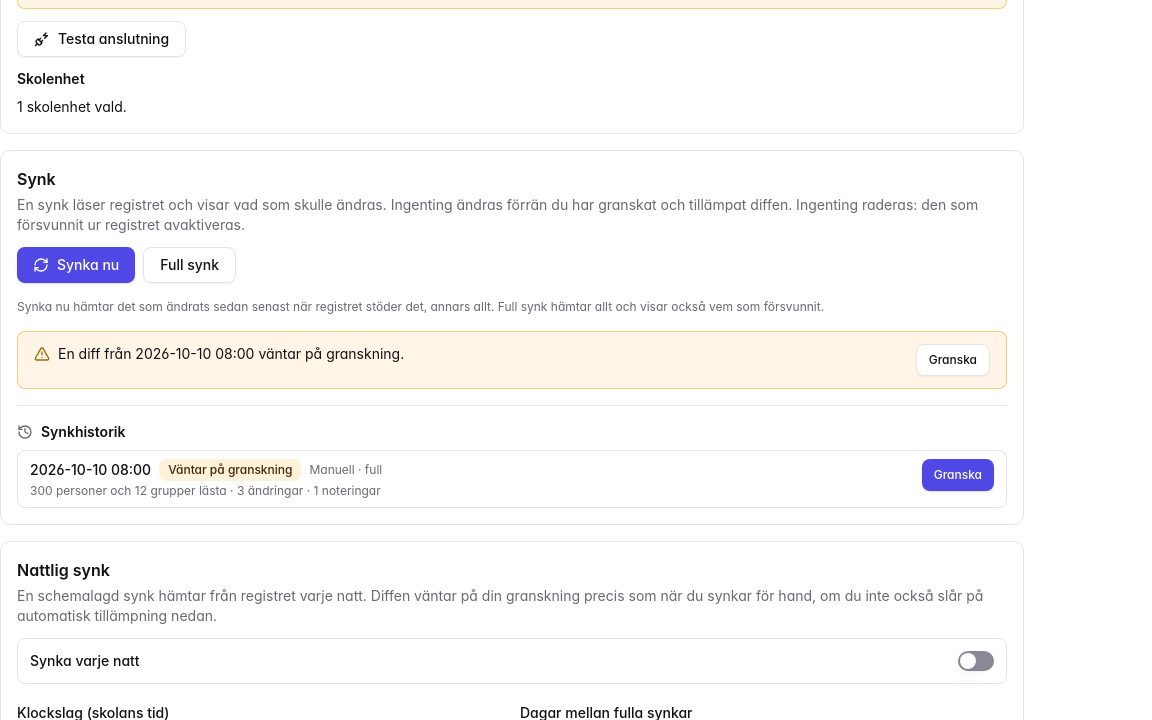
/admin/integrations — the register › chooses all SHOWN rows, and never a flagged one (protected, a role for review) by the bulk tick
The width and height of the screenshot is (1152, 720).
(page scrolled)
Step 1. Click the 1st button "Granska" → {"x": 953, "y": 360}, box [916,344,990,376]
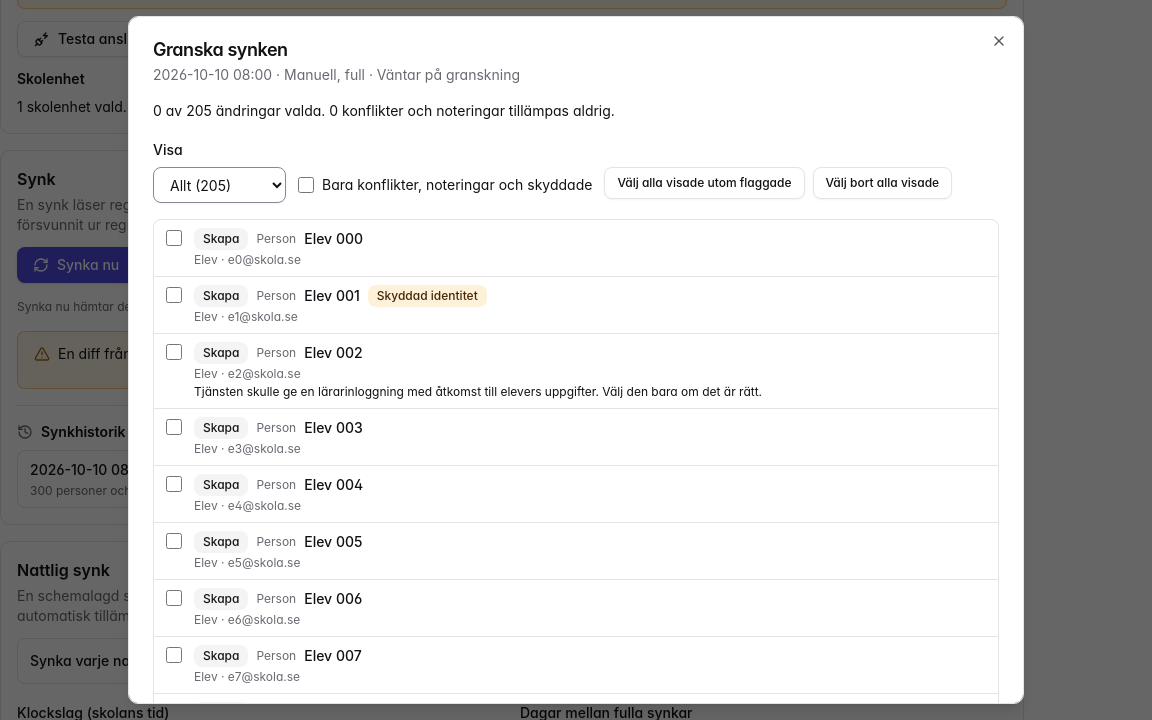
Now the text "0 av 205 ändringar valda. 0 konflikter och noteringar tillämpas aldrig." is shown, box [153,102,615,119]
Step 2. Click the button "Välj alla visade utom flaggade" → {"x": 704, "y": 183}, box [604,167,804,199]
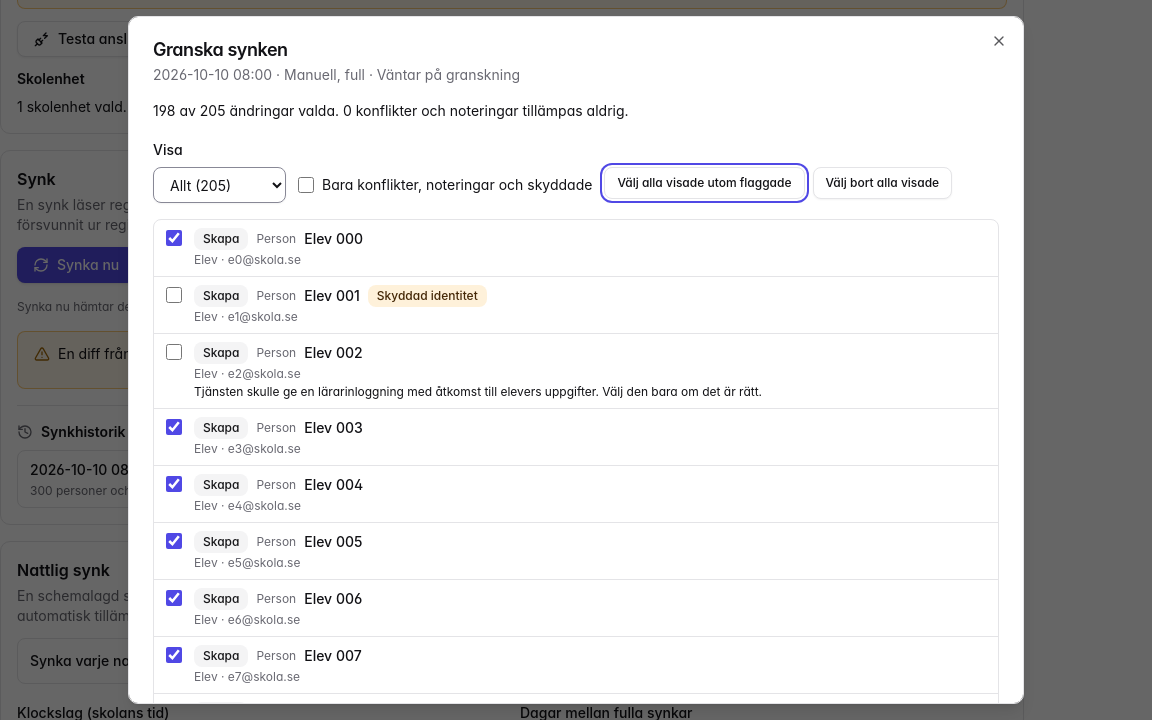
Now the text "198 av 205 ändringar valda. 0 konflikter och noteringar tillämpas aldrig." is shown, box [153,102,628,119]
